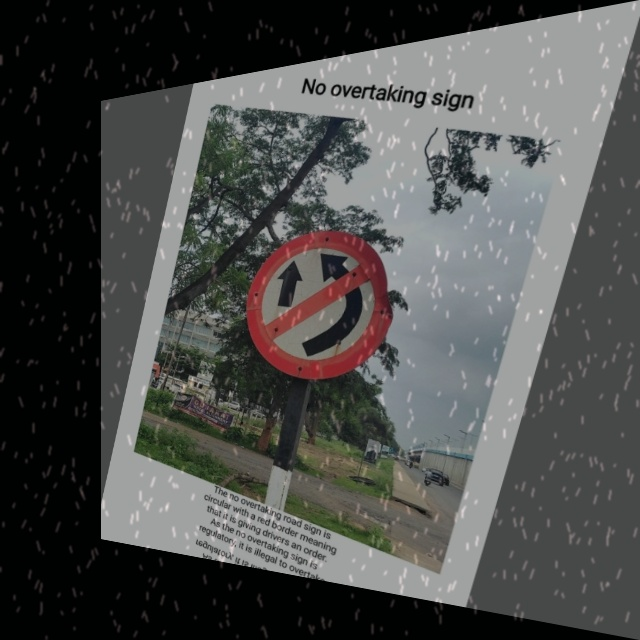Overtaking_Prohibited: (235, 205, 409, 402)
